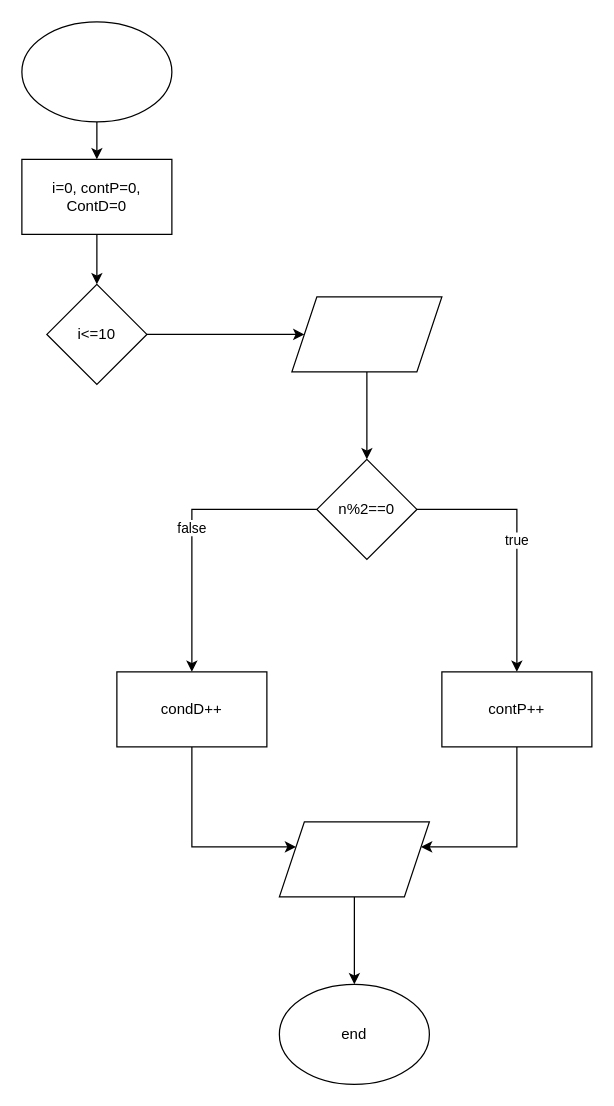
The diagram is 614 pixels wide and 1106 high, and some of its shapes have lost their labels. The shapes that lost their labels are listed below. From the top down, each one's centre as x and y in pixels, then its label:
point (96, 71): inizio
point (366, 334): read n
point (353, 859): out contP, contD
